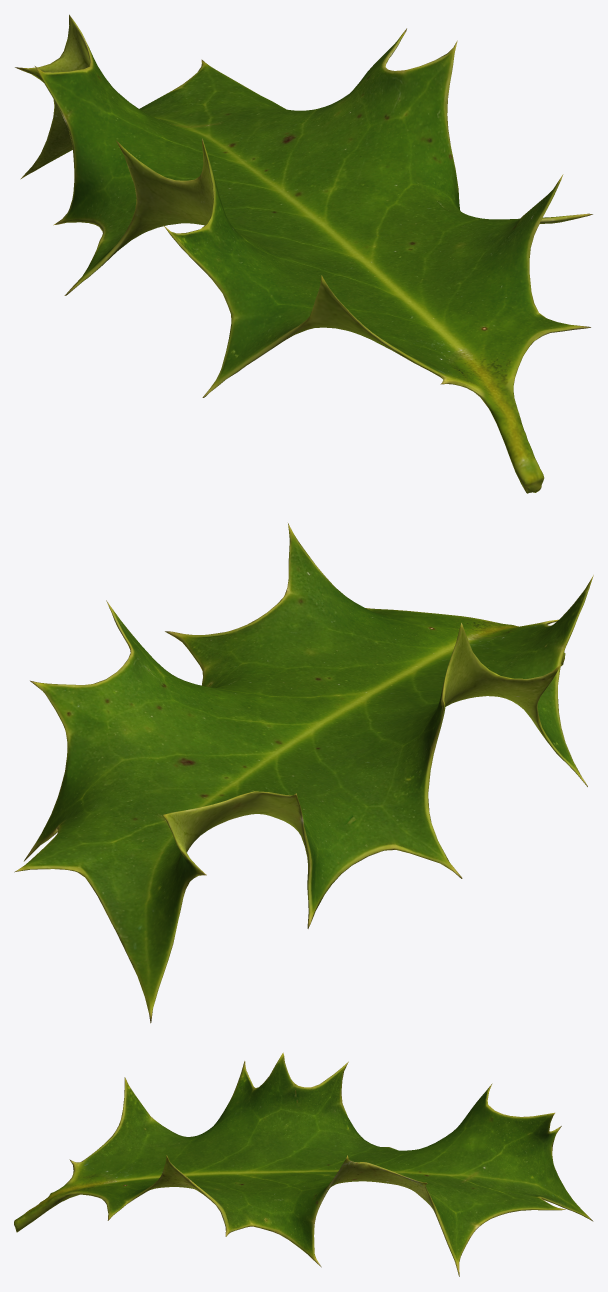
File: holly_leaf.glb
3 renders of one model, top to bottom at view 1: azimuth 30°, elevation 25°; view 2: azimuth 150°, elevation 25°; view 3: azimuth 270°, elevation 25°, orthographic. The views are drawn at different scales.
Parts seen in each view (by area): view 1: common holly; view 2: common holly; view 3: common holly.
Boxes of the visible parts, <box> form: common holly: <box>15,14,592,493</box>; common holly: <box>14,523,593,1023</box>; common holly: <box>14,1052,593,1276</box>.
Size of the model in its own units: 0.3503 by 0.1921 by 0.6746.
1 material, 1 textured.
